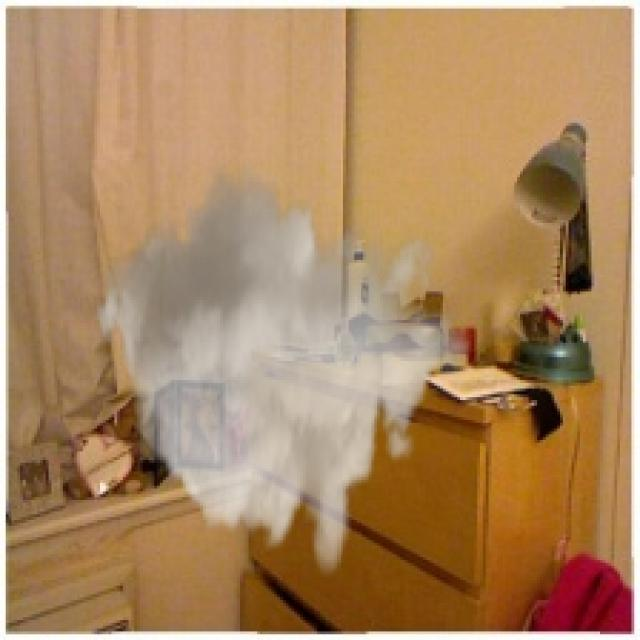smoke: (91, 157, 472, 580)
